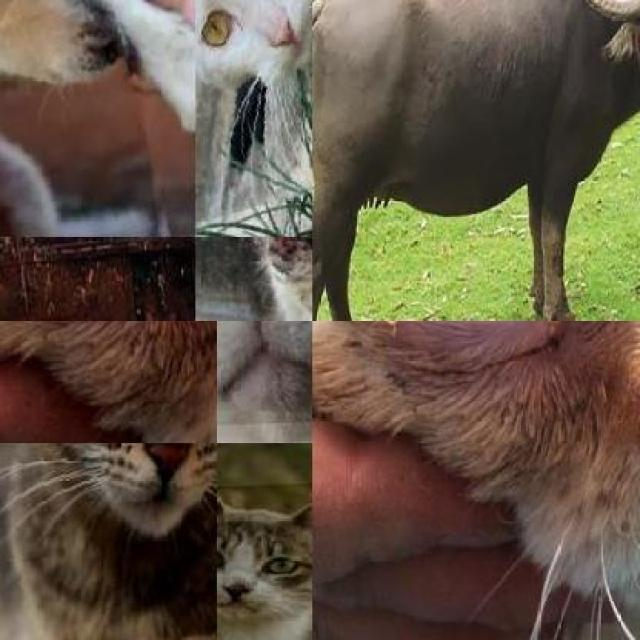buffalo: (312, 0, 640, 320)
cat: (312, 320, 640, 640), (0, 443, 217, 640), (0, 320, 217, 443), (195, 0, 312, 225), (217, 478, 312, 640)
dog: (0, 0, 174, 237)
injured: (262, 237, 312, 320)
